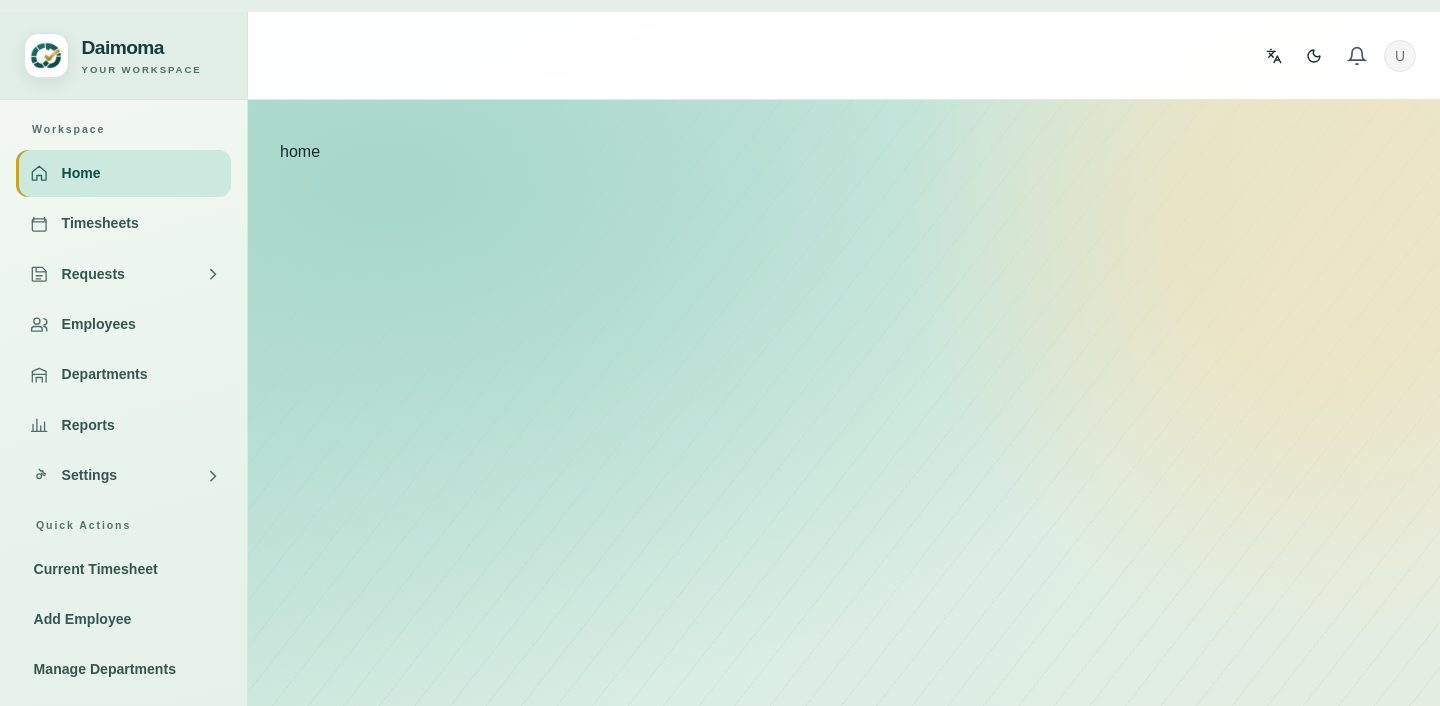
Scenario: AppLayout role-aware navigation › groups request types and allocations under Requests for HR
The image size is (1440, 706).
Menus start collapsed — expand them to reach the child links.
What coordinates should you click on to do the following:
click the button named "Expand Requests Menu"
I would click on:
 (213, 274)
Its box is [195, 255, 231, 294].
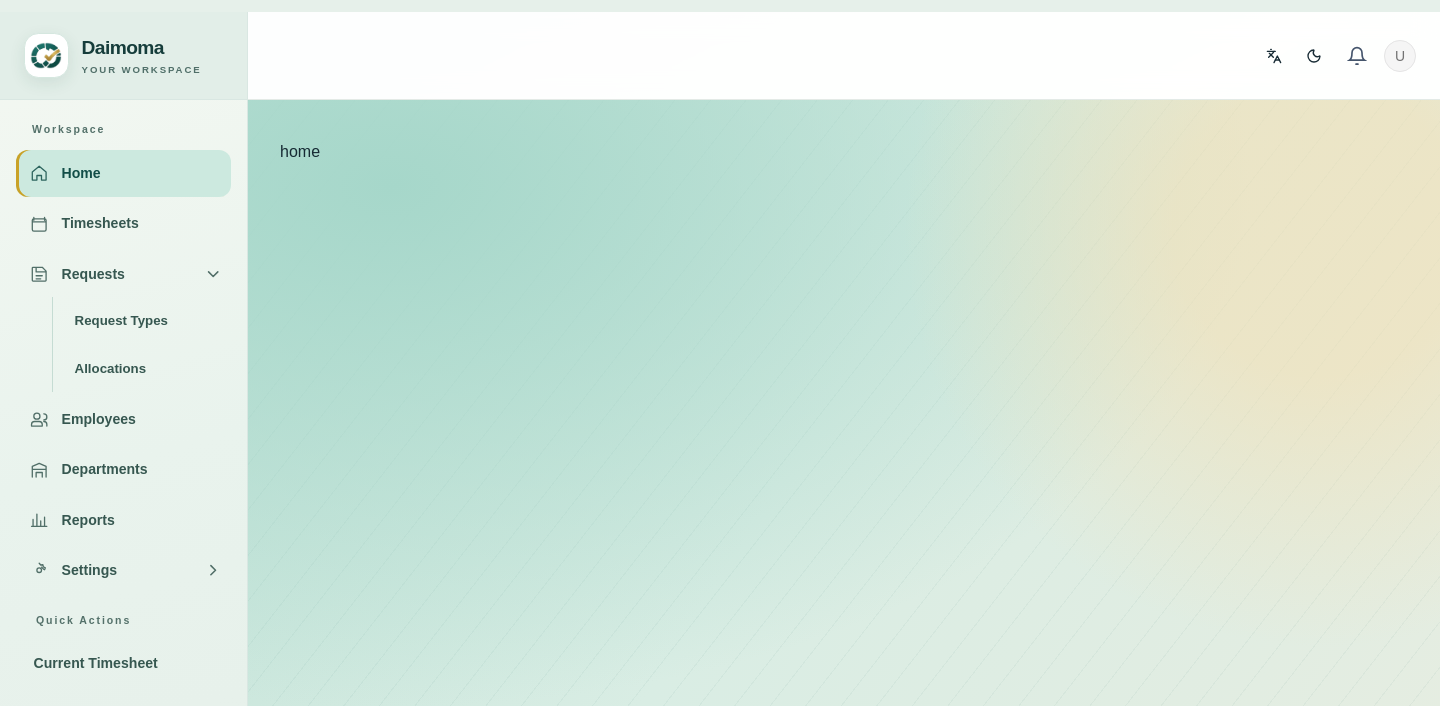
What coordinates should you click on to do the following:
click the button named "Expand Settings Menu"
I would click on:
 (213, 571)
Its box is [195, 551, 231, 590].
(page scrolled)
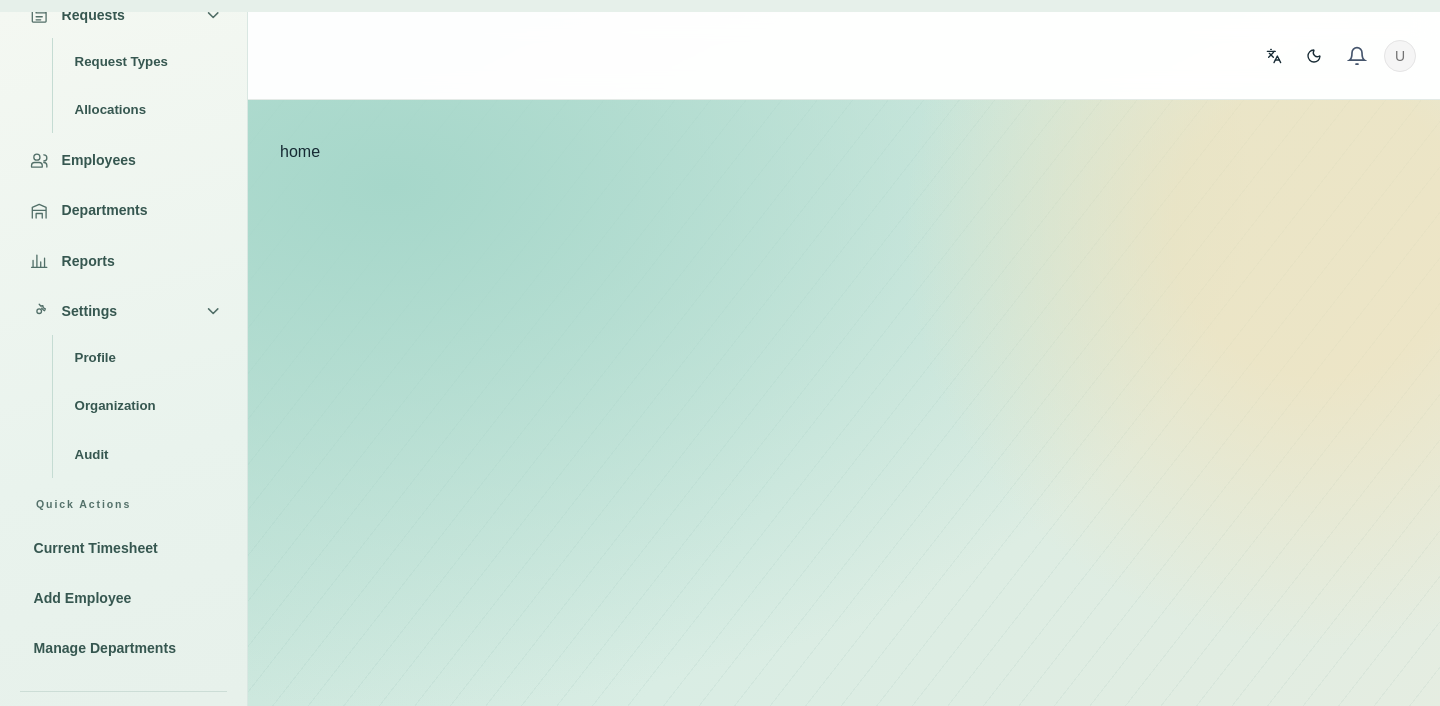
Expected: the link "Departments" is shown, [30, 202, 148, 220]
Now the link "Audit" is shown, box [75, 447, 108, 462]
